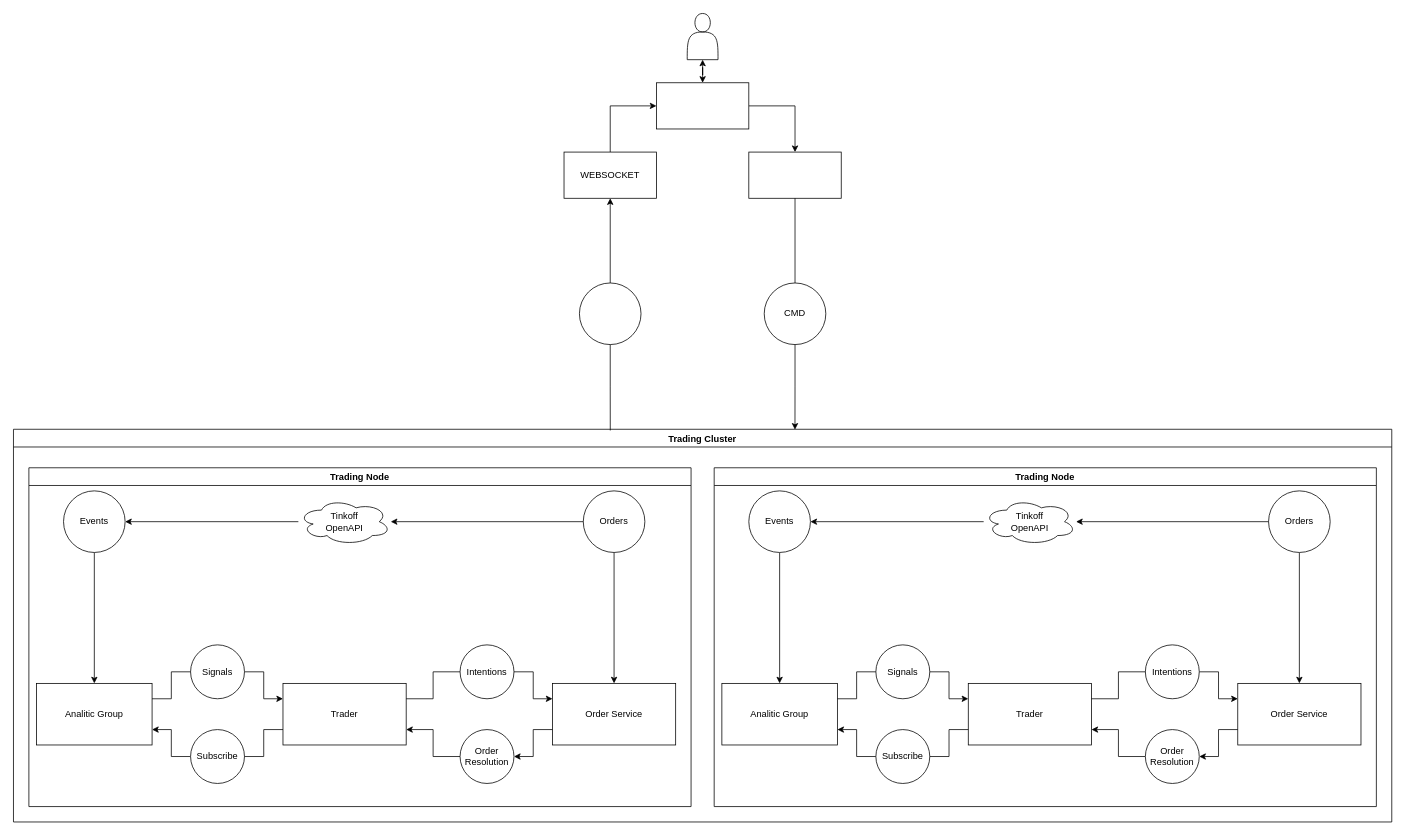
The diagram is 1405 pixels wide and 835 high, and some of its shapes have lost their labels. The shapes that lost their labels are listed below. From the top down, each one's centre as x and y in pixels, then its label:
point 702,105: WEB APP
point 794,174: REST API
point 610,313: State Events
